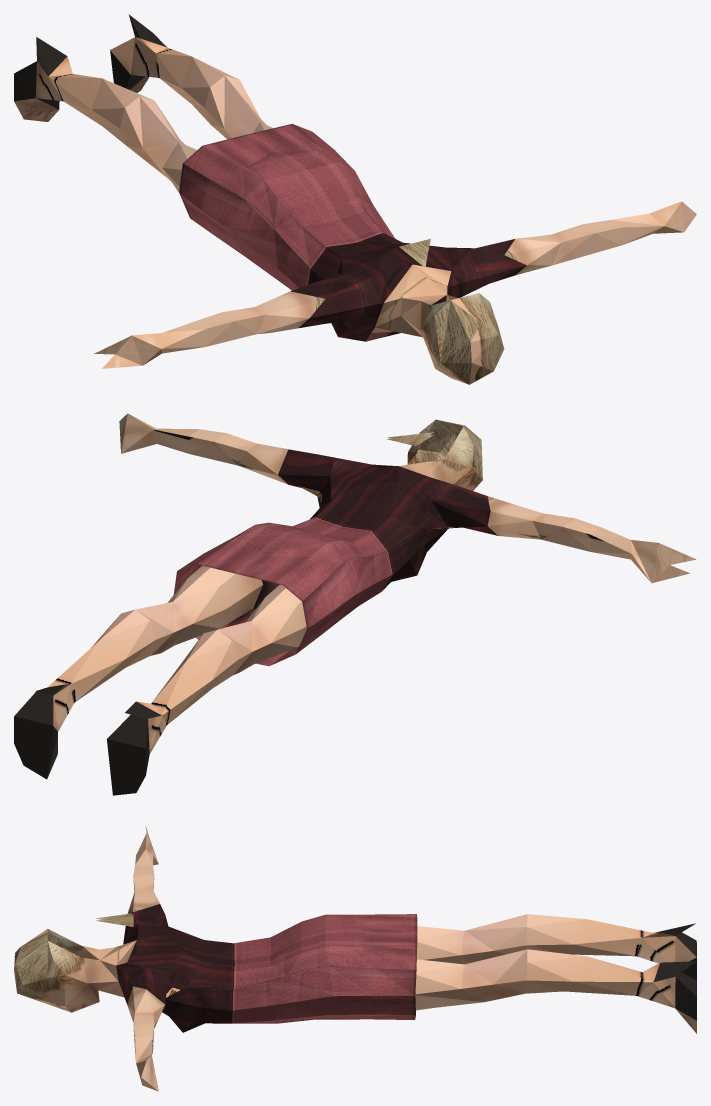
Rendered from tomdrinwoman3_3klow_wtf.obj.
3 renders of one model, top to bottom at view 1: azimuth 30°, elevation 25°; view 2: azimuth 150°, elevation 25°; view 3: azimuth 270°, elevation 25°, orthographic. The views are drawn at different scales.
Parts seen in each view (by area): view 1: group1; view 2: group1; view 3: group1.
Boxes of the visible parts, <box> form: group1: <box>14,14,696,384</box>; group1: <box>14,413,696,795</box>; group1: <box>14,825,696,1091</box>.
Bounding box in the file's own units: 568 × 106 × 660.
